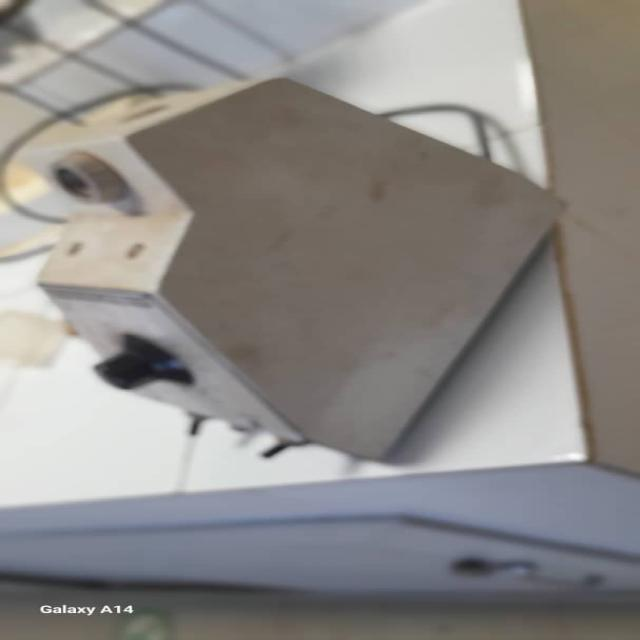Melting Point Apparatus: (22, 78, 547, 458)
